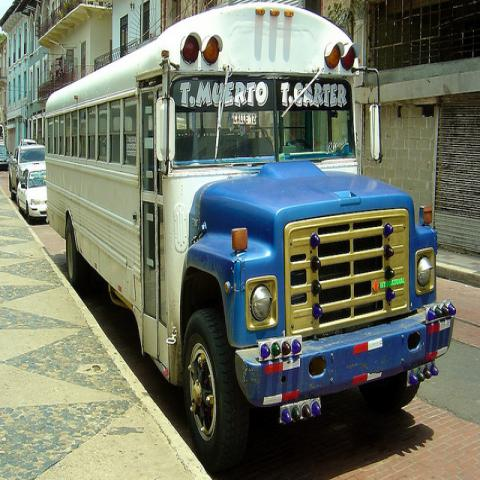bus: (48, 8, 462, 472)
car: (8, 144, 46, 200), (16, 164, 48, 224), (0, 144, 11, 171)
